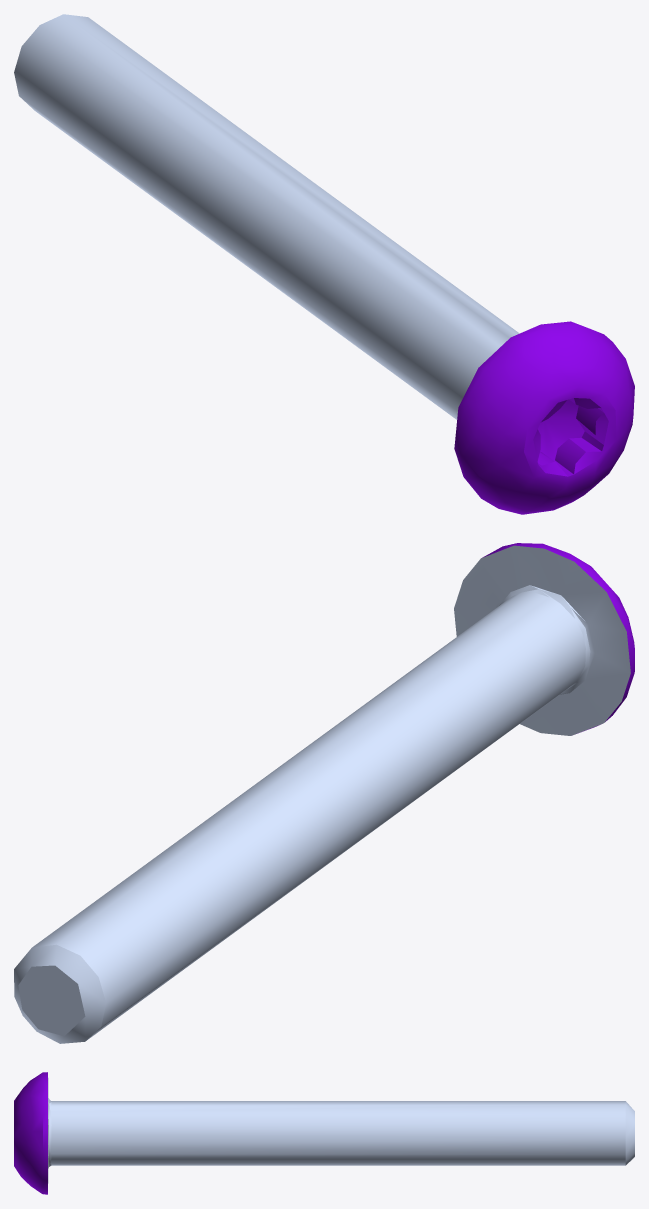
File: Colored__8-32_x_1_500_Star_Drive_Screw__276-4998__001.glb
The picture shows the model from 3 angles, top to bottom: view 1: azimuth 30°, elevation 25°; view 2: azimuth 150°, elevation 25°; view 3: azimuth 270°, elevation 25°; orthographic projection. The views are drawn at different scales.
Parts seen in each view (by area): view 1: Colored #8-32 x 1.500 Star Drive Screw (276-4998).001; view 2: Colored #8-32 x 1.500 Star Drive Screw (276-4998).001; view 3: Colored #8-32 x 1.500 Star Drive Screw (276-4998).001.
Part boxes in pixels (<box>): Colored #8-32 x 1.500 Star Drive Screw (276-4998).001: <box>14,14,634,514</box>; Colored #8-32 x 1.500 Star Drive Screw (276-4998).001: <box>14,543,634,1043</box>; Colored #8-32 x 1.500 Star Drive Screw (276-4998).001: <box>14,1072,634,1194</box>.
Size of the model in its own units: 0.3123 by 0.3131 by 1.59.
